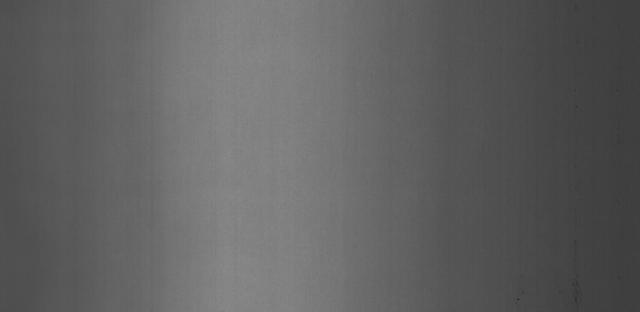inclusion: (564, 236, 590, 309)
